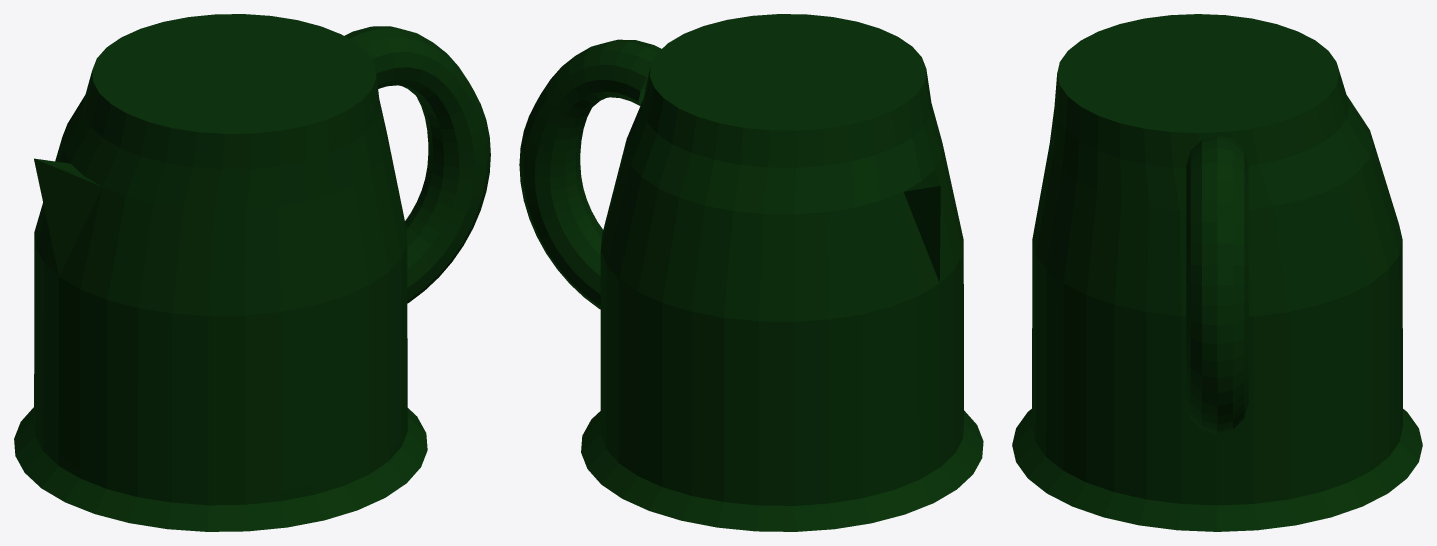
The model's file is kettle.obj.
3 views of the same model, side by side, from view 1: azimuth 30°, elevation 25°; view 2: azimuth 150°, elevation 25°; view 3: azimuth 270°, elevation 25° (orthographic). The views are drawn at different scales.
Visible parts, largest first — view 1: Torus; view 2: Torus; view 3: Torus.
Boxes of the visible parts, <box> form: Torus: <box>14,14,490,531</box>; Torus: <box>519,14,983,531</box>; Torus: <box>1012,14,1422,531</box>.
Size of the model in its own units: 2.48 by 2.01 by 2.
